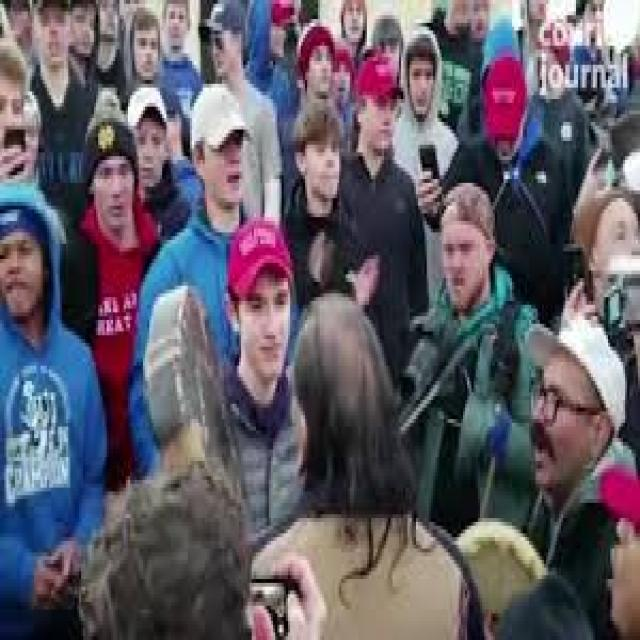cap: (516, 305, 638, 430), (212, 205, 310, 308), (192, 80, 254, 187), (117, 76, 175, 175), (354, 46, 405, 156), (484, 50, 529, 160), (196, 0, 254, 80)
